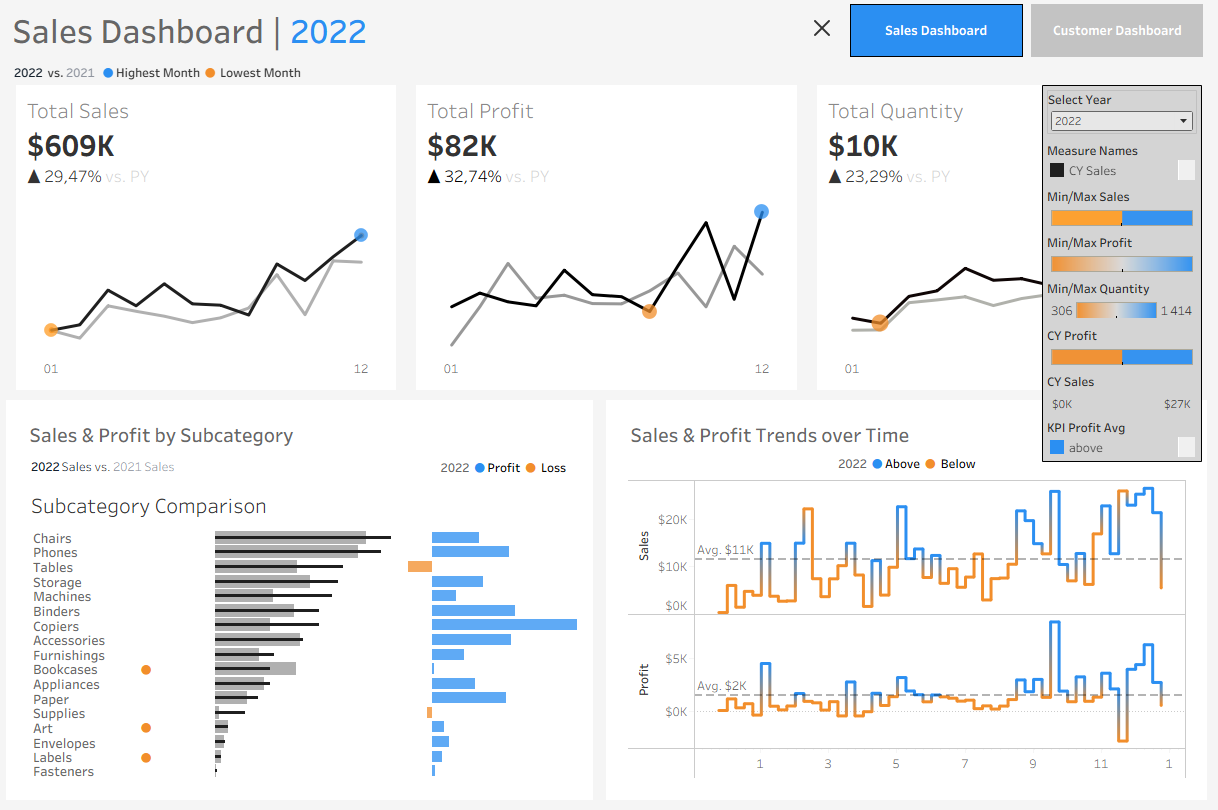

This screenshot's page, from the dashboard's own definition file:
{"tool":"tableau","page":{"name":"Sales Dashboard","canvas":[1200,800],"ordinal":2},"visuals":[{"type":"text","box":[0,0,839,61]},{"type":"dashboard-object","box":[839,0,181,61]},{"type":"dashboard-object","box":[1020,0,180,61]},{"type":"dashboard-object","box":[803,16,24,24]},{"type":"worksheet","title":"Legend KPI","mark":"Automatic","box":[0,61,1200,24]},{"type":"worksheet","title":"Sales dasboard","mark":"Automatic","rows":["Calculation_1147854970909888526"],"cols":["Order Date"],"box":[0,85,400,315]},{"type":"worksheet","title":"Profit dasboard","mark":"Line","rows":["Calculation_1147854971115585562"],"cols":["Order Date"],"box":[400,85,400,315]},{"type":"worksheet","title":"Quantity dasboard","mark":"Automatic","rows":["Calculation_1147854971126104094"],"cols":["Order Date"],"box":[800,85,400,315]},{"type":"parameter","param":"[Parameters].[Parameter 1]","box":[1036,86,158,52]},{"type":"legend","title":"Sales dasboard","param":"[federated.19rw79u1ow10a016p7cqy1blbre3].[:Measure Names]","box":[1036,138,158,46.1]},{"type":"legend","title":"Sales dasboard","param":"[federated.19rw79u1ow10a016p7cqy1blbre3].[usr:Calculation_1147854970909888526:qk","box":[1036,184.1,158,46.1]},{"type":"legend","title":"Profit dasboard","param":"[federated.19rw79u1ow10a016p7cqy1blbre3].[usr:Calculation_1147854971115585562:qk","box":[1036,230.3,158,46.1]},{"type":"legend","title":"Quantity dasboard","param":"[federated.19rw79u1ow10a016p7cqy1blbre3].[usr:Calculation_1147854971126104094:qk","box":[1036,276.4,158,46.1]},{"type":"legend","title":"Subcategory Comparison","param":"[federated.19rw79u1ow10a016p7cqy1blbre3].[sum:Calculation_1147854971113685012:qk","box":[1036,322.5,158,46.1]},{"type":"filter","title":"Weekly trends","param":"[federated.19rw79u1ow10a016p7cqy1blbre3].[sum:Calculation_1147854970904162313:qk","box":[1036,368.7,158,46.1]},{"type":"blank","box":[587,394,13,410]},{"type":"legend","title":"Weekly trends","param":"[federated.19rw79u1ow10a016p7cqy1blbre3].[usr:KPI Sales Avg (copy)_1147854972676","box":[1036,414.8,158,46.2]},{"type":"text","box":[17,417,566,34]},{"type":"text","box":[617,417,566,34]},{"type":"worksheet","title":"Legend Subcategory","mark":"Automatic","box":[17,451,411,32]},{"type":"text","box":[428,451,155,32]},{"type":"text","box":[617,451,566,25]},{"type":"worksheet","title":"Weekly trends","mark":"Automatic","rows":["Calculation_1147854970904162313","Calculation_1147854971113685012"],"cols":["Order Date"],"box":[617,476,566,307]},{"type":"worksheet","title":"Subcategory Comparison","mark":"Bar","rows":["Sub-Category","Calculation_1147854971287744548"],"cols":["CY Sales (copy)_1147854970905001995","Calculation_1147854970904162313","Calculation_1147854971113685012"],"box":[17,483,566,299.9]}]}

Visuals, with their boxes in screenshot pixels (x1, y1, x2, y2), scaled from the page's 1200x800 canvas onto the 1218x810 screenshot:
text: bbox=[0, 0, 852, 62]
dashboard-object: bbox=[852, 0, 1035, 62]
dashboard-object: bbox=[1035, 0, 1217, 62]
dashboard-object: bbox=[815, 16, 839, 40]
"Legend KPI" worksheet: bbox=[0, 62, 1217, 86]
"Sales dasboard" worksheet: bbox=[0, 86, 406, 405]
"Profit dasboard" worksheet (Line marks): bbox=[406, 86, 812, 405]
"Quantity dasboard" worksheet: bbox=[812, 86, 1217, 405]
parameter: bbox=[1052, 87, 1212, 140]
"Sales dasboard" legend: bbox=[1052, 140, 1212, 186]
"Sales dasboard" legend: bbox=[1052, 186, 1212, 233]
"Profit dasboard" legend: bbox=[1052, 233, 1212, 280]
"Quantity dasboard" legend: bbox=[1052, 280, 1212, 327]
"Subcategory Comparison" legend: bbox=[1052, 327, 1212, 373]
"Weekly trends" filter: bbox=[1052, 373, 1212, 420]
blank: bbox=[596, 399, 609, 809]
"Weekly trends" legend: bbox=[1052, 420, 1212, 467]
text: bbox=[17, 422, 592, 457]
text: bbox=[626, 422, 1201, 457]
"Legend Subcategory" worksheet: bbox=[17, 457, 434, 489]
text: bbox=[434, 457, 592, 489]
text: bbox=[626, 457, 1201, 482]
"Weekly trends" worksheet: bbox=[626, 482, 1201, 793]
"Subcategory Comparison" worksheet (Bar marks): bbox=[17, 489, 592, 793]
